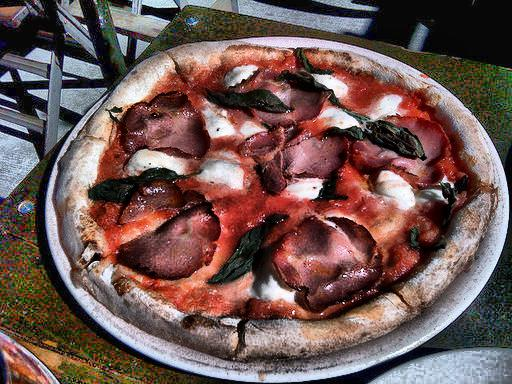pizza: (32, 46, 500, 353)
